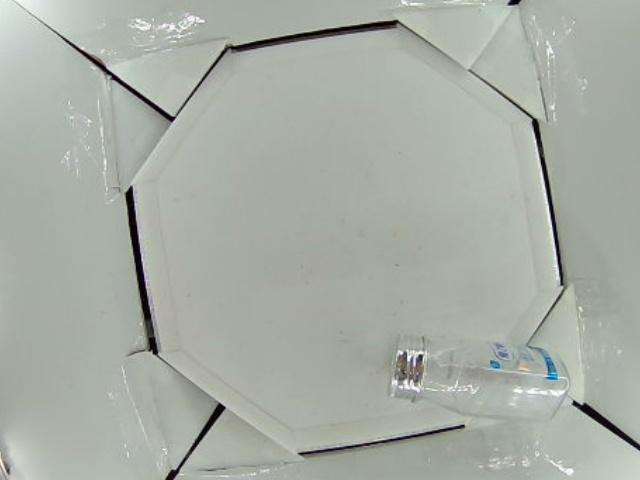Bottle: (385, 334, 572, 426)
